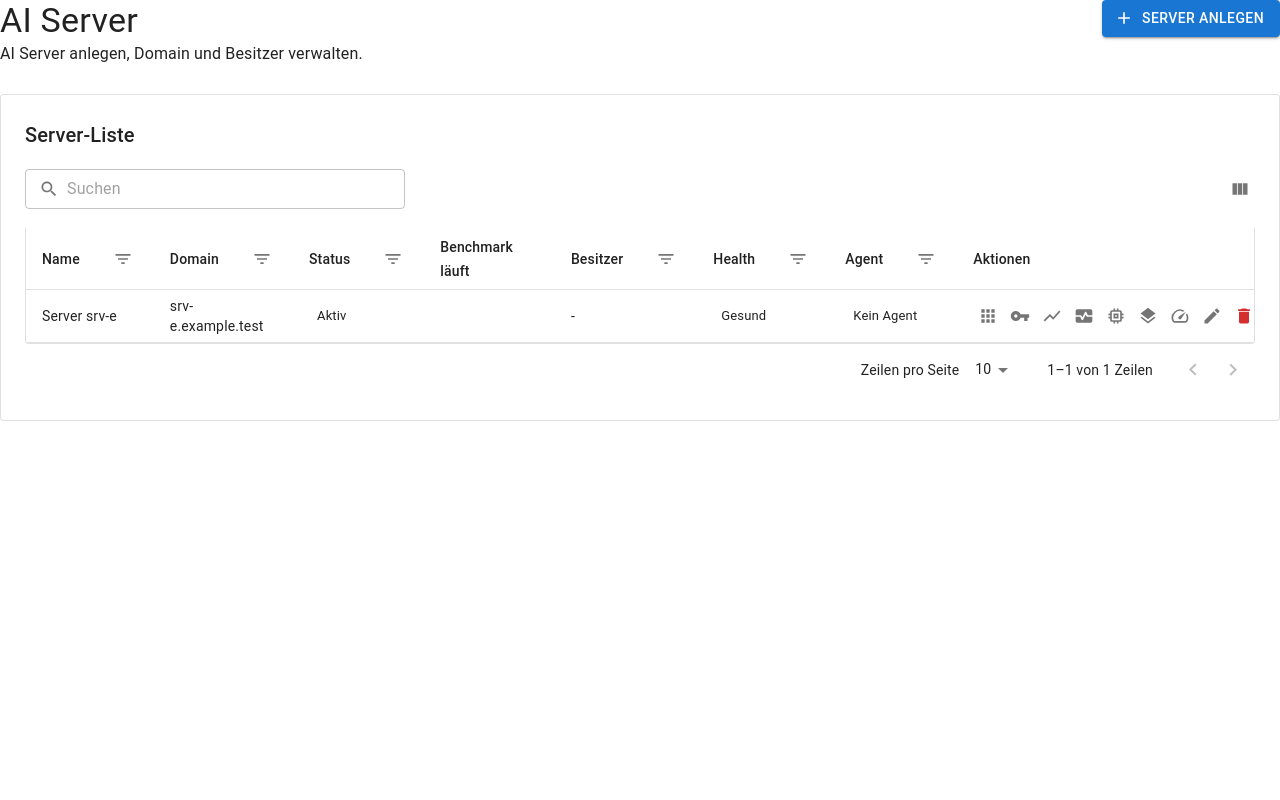
Test: ServerList energy config › pre-fills the energy-config fields from the server row on edit (price shown in its unit)
Click the button named "Bearbeiten": (1212, 316) [1197,301,1227,331]
(page scrolled)
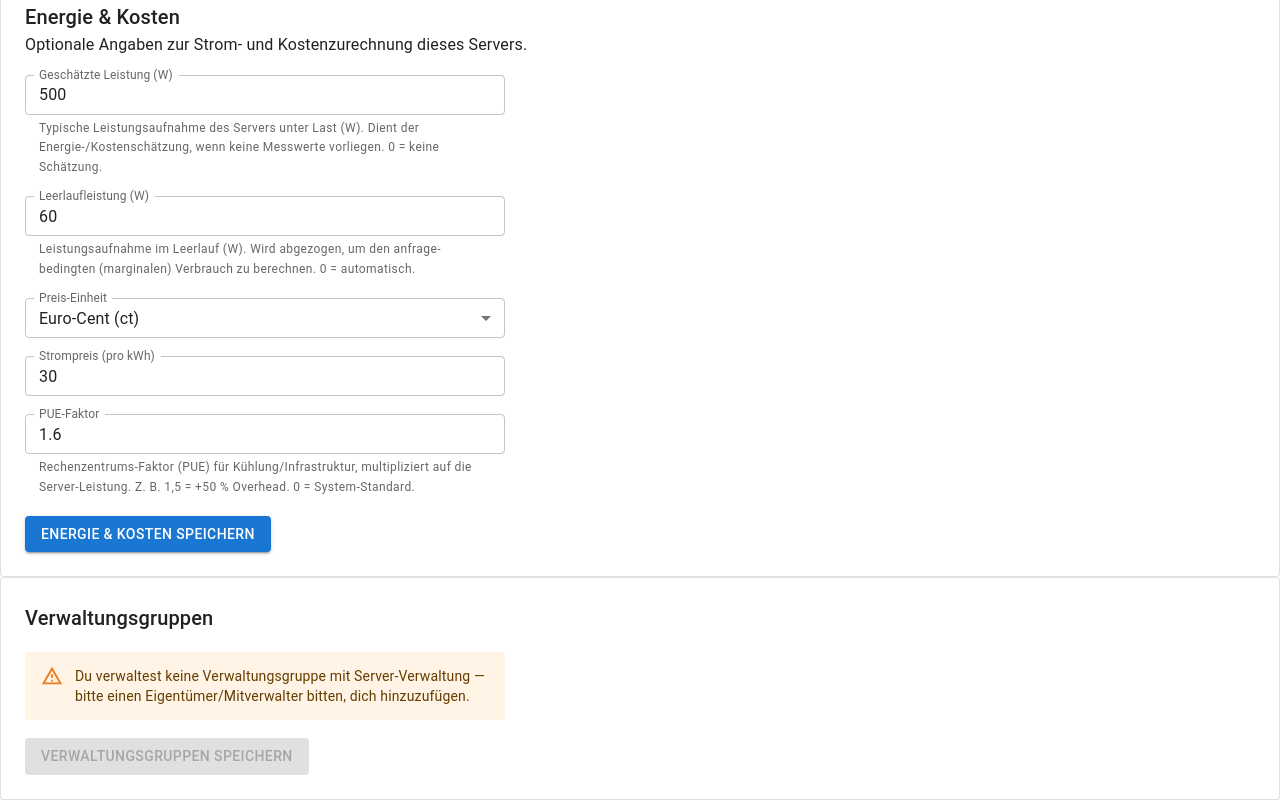
expect the number field labelled "Geschätzte Leistung (W)" holds "500": met, box [25,74,505,114]
expect the number field labelled "Leerlaufleistung (W)" holds "60": met, box [25,196,505,236]
expect the number field labelled "Strompreis (pro kWh)" holds "30": met, box [25,356,505,396]
